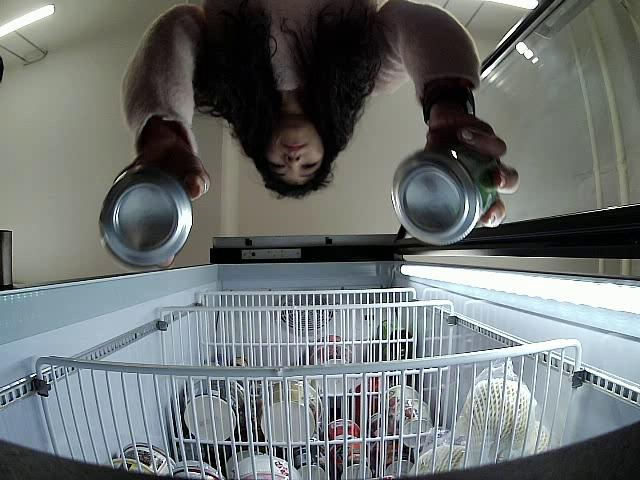00_hand: (423, 108, 520, 228)
12_chilsungCider: (393, 143, 498, 246), (100, 169, 193, 264)
